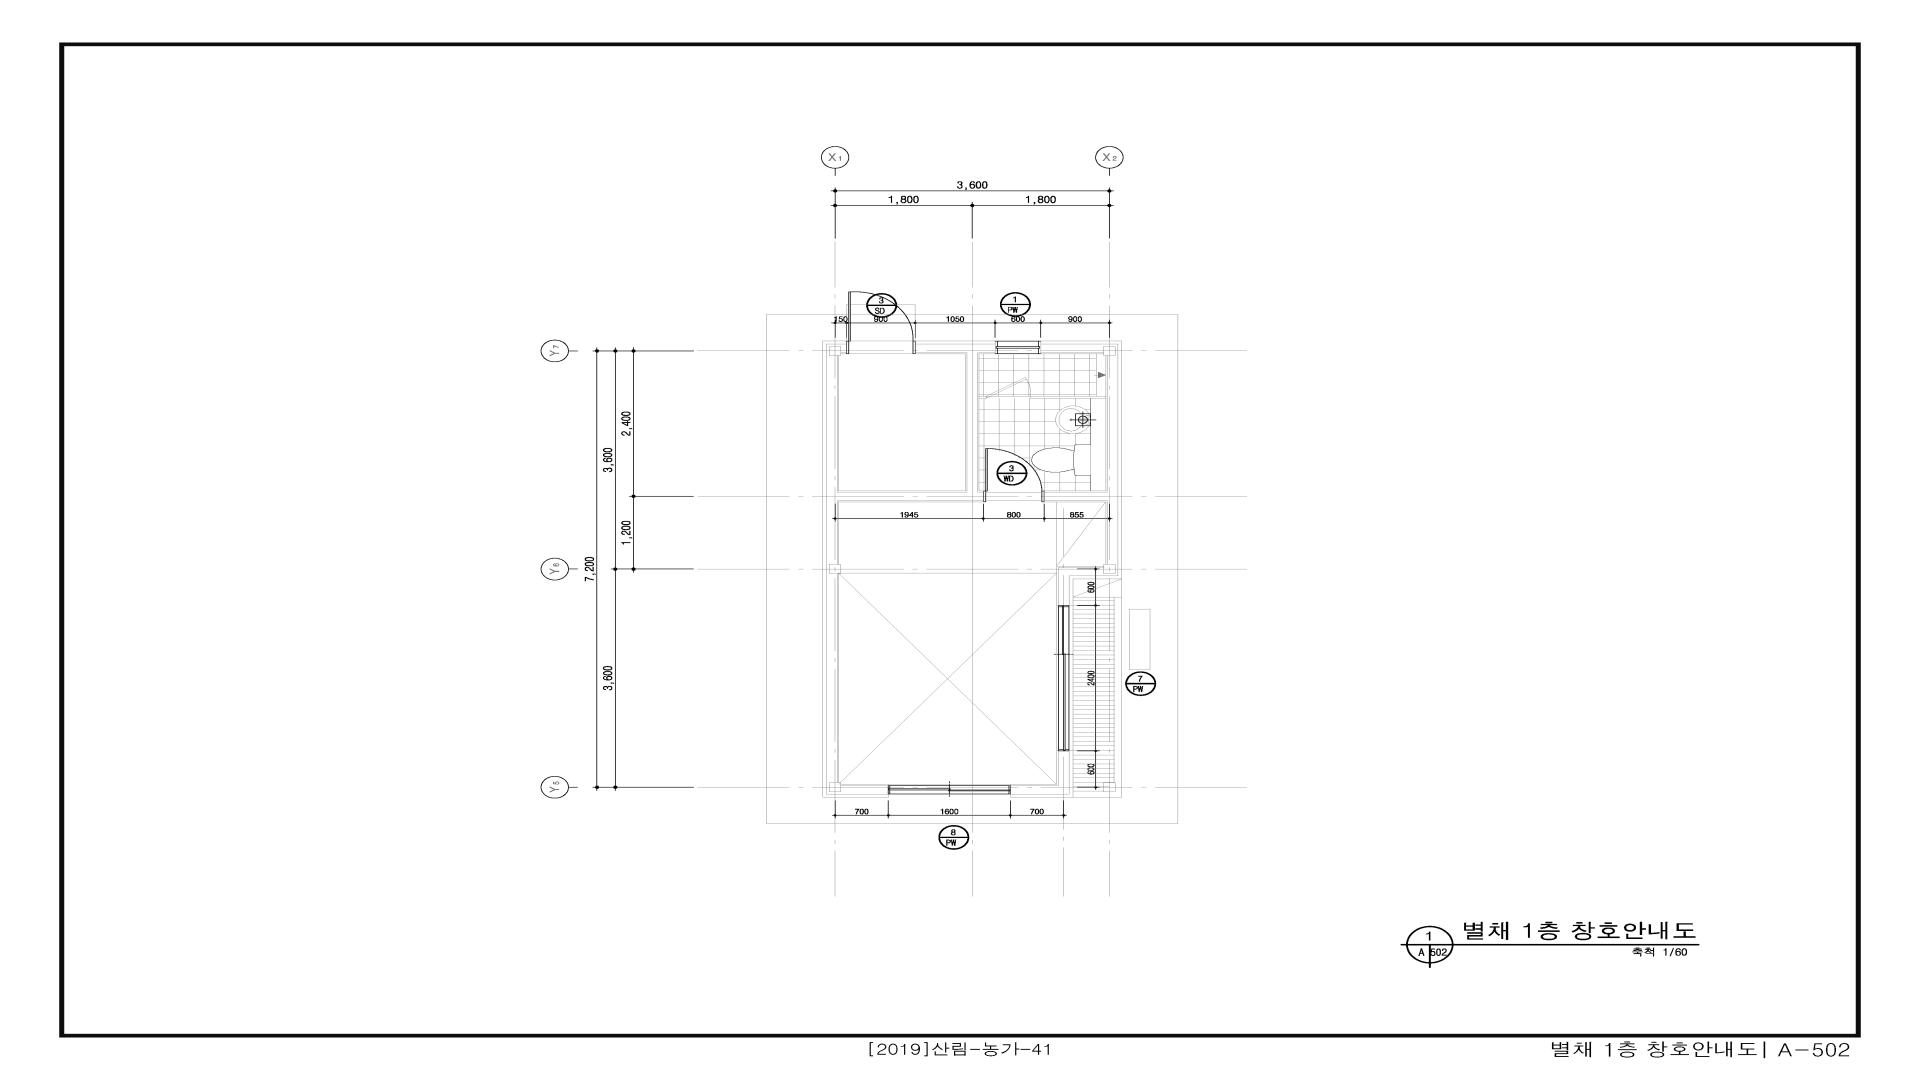door: (846, 291, 916, 354), (983, 448, 1044, 502), (986, 377, 1031, 398)
wall: (823, 341, 889, 797), (839, 341, 995, 502), (1041, 341, 1122, 605), (1010, 751, 1073, 797), (1031, 396, 1106, 398), (1031, 395, 1097, 396), (979, 396, 986, 398), (979, 395, 986, 396)
window: (1057, 605, 1073, 751), (888, 784, 1010, 794), (995, 341, 1041, 354)
